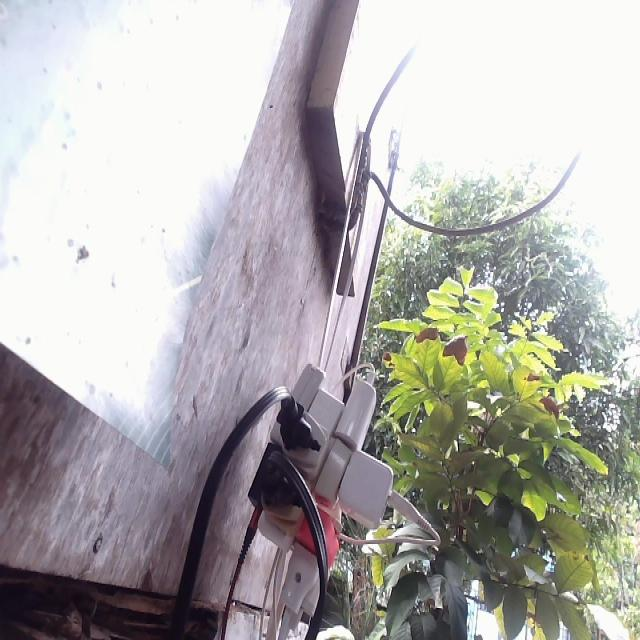-: (234, 327, 457, 637)
